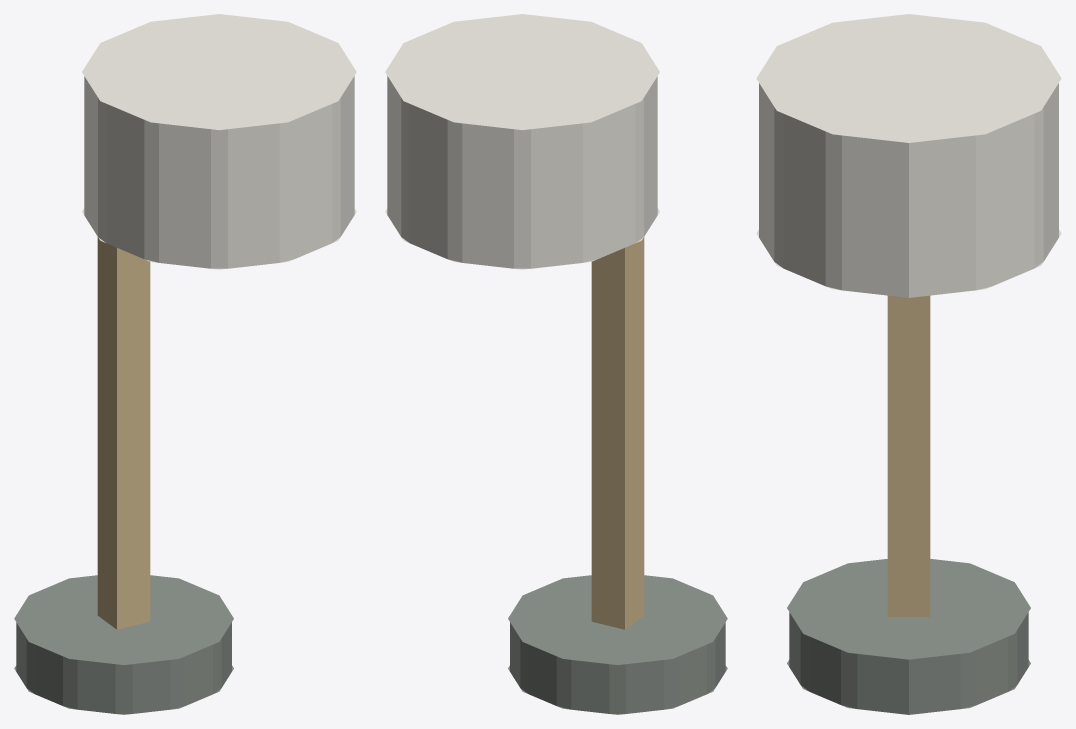
The model's file is desk_lamp.glb.
3 renders of one model, left to right at view 1: azimuth 30°, elevation 25°; view 2: azimuth 150°, elevation 25°; view 3: azimuth 270°, elevation 25°, orthographic. The views are drawn at different scales.
Visible parts, largest first — view 1: desk_lamp_ivory_2, desk_lamp_dark_0, desk_lamp_brass_1; view 2: desk_lamp_ivory_2, desk_lamp_dark_0, desk_lamp_brass_1; view 3: desk_lamp_ivory_2, desk_lamp_dark_0, desk_lamp_brass_1.
Boxes of the visible parts, x1=… form: desk_lamp_ivory_2: x1=82, y1=14, x2=356, y2=269; desk_lamp_dark_0: x1=14, y1=575, x2=233, y2=714; desk_lamp_brass_1: x1=97, y1=237, x2=150, y2=629; desk_lamp_ivory_2: x1=385, y1=14, x2=659, y2=269; desk_lamp_dark_0: x1=508, y1=575, x2=727, y2=714; desk_lamp_brass_1: x1=591, y1=237, x2=644, y2=629; desk_lamp_ivory_2: x1=756, y1=14, x2=1061, y2=297; desk_lamp_dark_0: x1=787, y1=559, x2=1030, y2=714; desk_lamp_brass_1: x1=887, y1=295, x2=930, y2=616.
Size of the model in its own units: 0.325 by 0.575 by 0.25.
